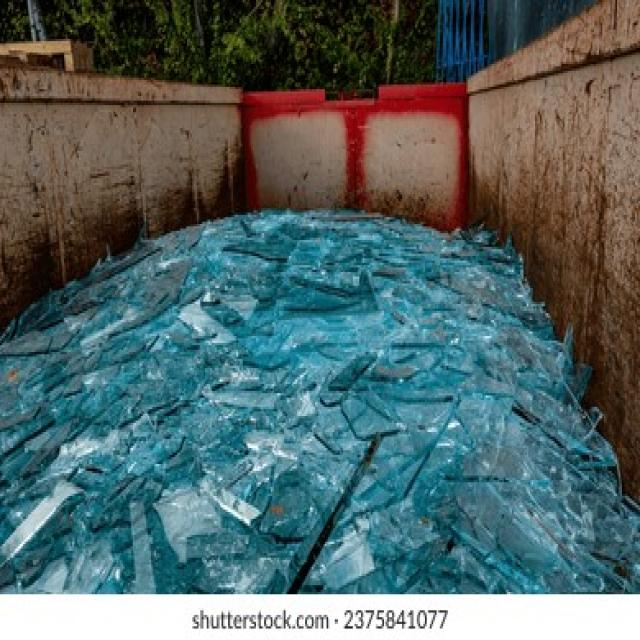glass: (21, 233, 509, 567)
